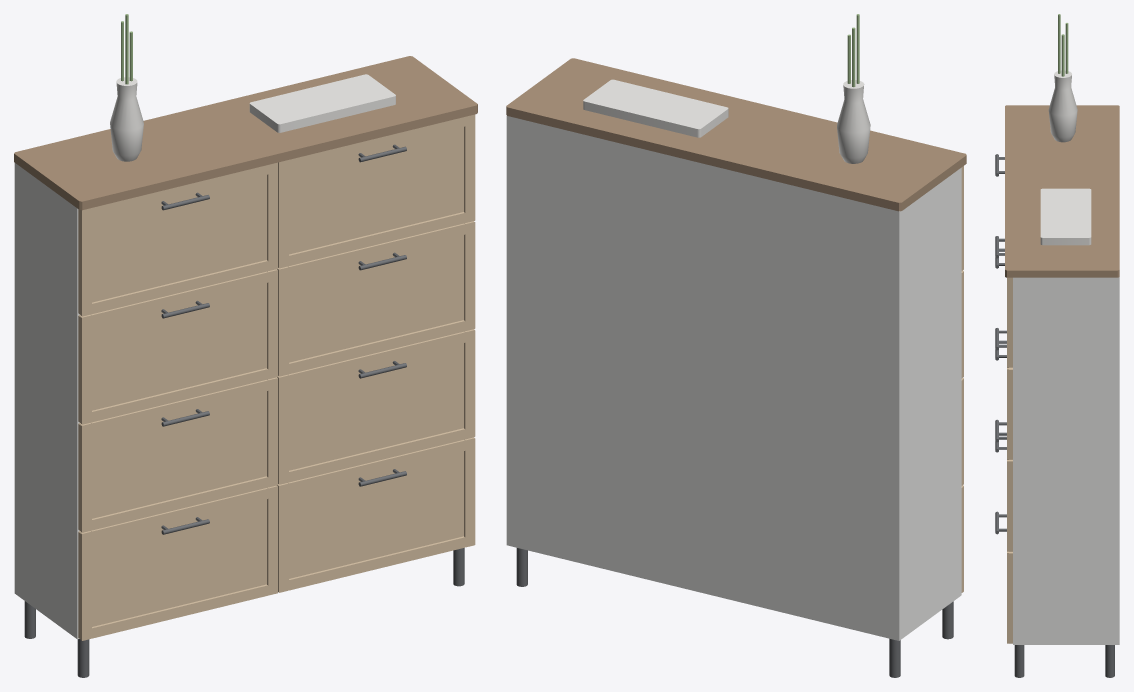
3 renders of one model, left to right at view 1: azimuth 30°, elevation 25°; view 2: azimuth 150°, elevation 25°; view 3: azimuth 270°, elevation 25°, orthographic. The views are drawn at different scales.
Parts seen in each view (by area): view 1: Tủ giày Dài=1200; Sâu=350; view 2: Tủ giày Dài=1200; Sâu=350; view 3: Tủ giày Dài=1200; Sâu=350.
Part boxes in pixels (x1,y1,x2,y2): Tủ giày Dài=1200; Sâu=350: (14, 14, 477, 677); Tủ giày Dài=1200; Sâu=350: (506, 14, 966, 677); Tủ giày Dài=1200; Sâu=350: (995, 14, 1119, 677).
Size of the model in its own units: 1.21 by 1.82 by 0.385.
